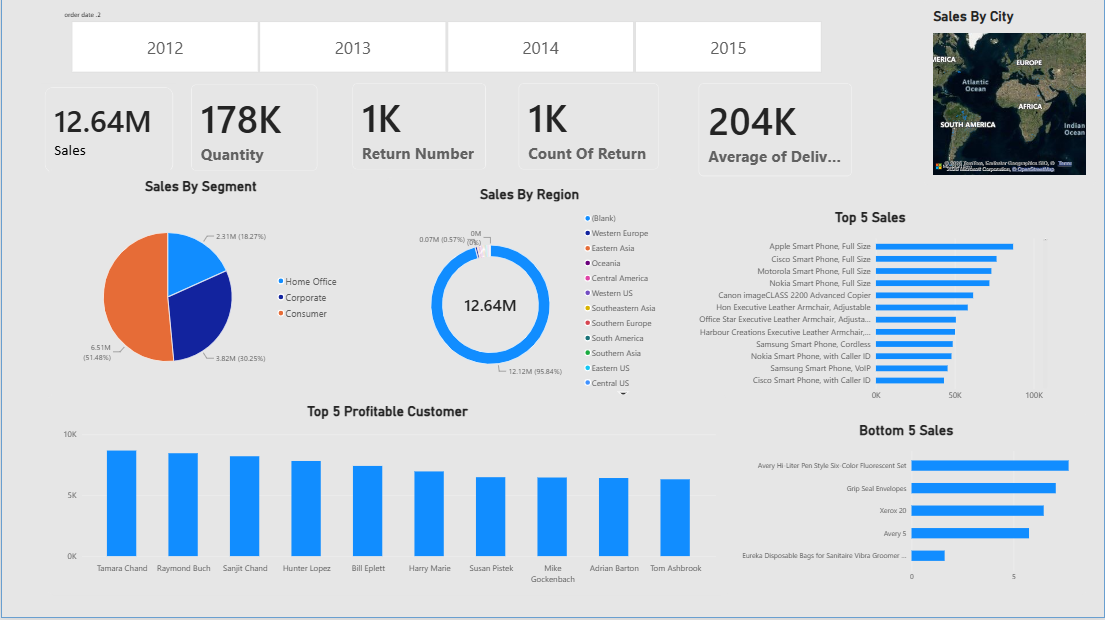

What the dashboard file says about the page in this screenshot:
{"tool":"powerbi","page":{"name":"Page 1","canvas":[1920,1080],"ordinal":0},"visuals":[{"type":"shape","box":[0,0,1920,1080],"z":0},{"type":"textbox","box":[102.9,51.5,1735.2,133.8],"z":1000},{"type":"cardVisual","fields":{"Data":["Sum(Orders.Sales)"]},"box":[70,150.3,236.7,162.6],"z":2000},{"type":"pieChart","title":"Sales By Segment","fields":{"Y":["Sum(Orders.Sales)"],"Category":["Orders.Segment"]},"box":[82.3,300.5,528.1,402],"z":3000},{"type":"donutChart","title":"Sales By Region","fields":{"Y":["Sum(Orders.Sales)"],"Category":["People.Region"]},"box":[671,312.9,493.3,402.2],"z":4000},{"type":"clusteredBarChart","title":"Top 5 Sales","fields":{"Category":["Orders.Product Name"],"Y":["Sum(Orders.Sales)"]},"box":[1185.6,354,652.5,370.5],"z":5000},{"type":"clusteredColumnChart","title":"Top 5 Profitable Customer","fields":{"Category":["Orders.Customer Name"],"Y":["Sum(Orders.Profit)"]},"box":[82.2,691.1,1177.8,348.9],"z":6000},{"type":"clusteredBarChart","title":"Bottom 5 Sales","fields":{"Category":["Orders.Product Name"],"Y":["Sum(Orders.Sales)"]},"box":[1259.7,724.5,629.8,314.9],"z":7000},{"type":"filledMap","title":"Sales By City","fields":{"Category":["Orders.City"]},"box":[1604.4,4.4,300,322.2],"z":8000},{"type":"cardVisual","fields":{"Data":["Sum(Orders.Quantity)"]},"box":[306.7,150.3,220.2,150.3],"z":9000},{"type":"cardVisual","fields":{"Data":["Sum(Returns.return number)"]},"box":[611.3,150.3,218.2,150.3],"z":10000},{"type":"cardVisual","fields":{"Data":["Sum(Returns.Return)"]},"box":[899.5,150.3,218.2,150.3],"z":11000},{"type":"textbox","box":[671,244.9,263.5,55.6],"z":12000},{"type":"textbox","box":[1414.1,300.5,160.5,53.5],"z":13000},{"type":"cardVisual","fields":{"Data":["Sum(Orders.Delivers day)"]},"box":[1212.4,150.3,218.2,162.6],"z":14000},{"type":"slicer","fields":{"Values":["Orders.order date .2"]},"box":[102.9,24.7,1344.1,109.1],"z":15000},{"type":"textbox","box":[102.9,259.3,86.4,41.2],"z":15001},{"type":"textbox","box":[306.7,244.9,168.8,41.2],"z":15002},{"type":"textbox","box":[611.3,244.9,218.2,41.2],"z":15003},{"type":"textbox","box":[899.5,259.3,218.2,41.2],"z":15004},{"type":"textbox","box":[1212.4,259.3,234.6,53.5],"z":15005}]}

Visuals, with their boxes in screenshot pixels (x1, y1, x2, y2), scaled from the page's 1920x1080 canvas onto the 1105x620 screenshot:
shape: rect(0, 0, 1104, 619)
textbox: rect(59, 30, 1058, 106)
cardVisual - Sum(Orders.Sales): rect(40, 86, 177, 180)
"Sales By Segment" pieChart: rect(47, 173, 351, 403)
"Sales By Region" donutChart: rect(386, 180, 670, 411)
"Top 5 Sales" clusteredBarChart: rect(682, 203, 1058, 416)
"Top 5 Profitable Customer" clusteredColumnChart: rect(47, 397, 725, 597)
"Bottom 5 Sales" clusteredBarChart: rect(725, 416, 1087, 597)
"Sales By City" filledMap: rect(923, 3, 1096, 187)
cardVisual - Sum(Orders.Quantity): rect(177, 86, 303, 173)
cardVisual - Sum(Returns.return number): rect(352, 86, 477, 173)
cardVisual - Sum(Returns.Return): rect(518, 86, 643, 173)
textbox: rect(386, 141, 538, 173)
textbox: rect(814, 173, 906, 203)
cardVisual - Sum(Orders.Delivers day): rect(698, 86, 823, 180)
slicer - Orders.order date .2: rect(59, 14, 833, 77)
textbox: rect(59, 149, 109, 173)
textbox: rect(177, 141, 274, 164)
textbox: rect(352, 141, 477, 164)
textbox: rect(518, 149, 643, 173)
textbox: rect(698, 149, 833, 180)
